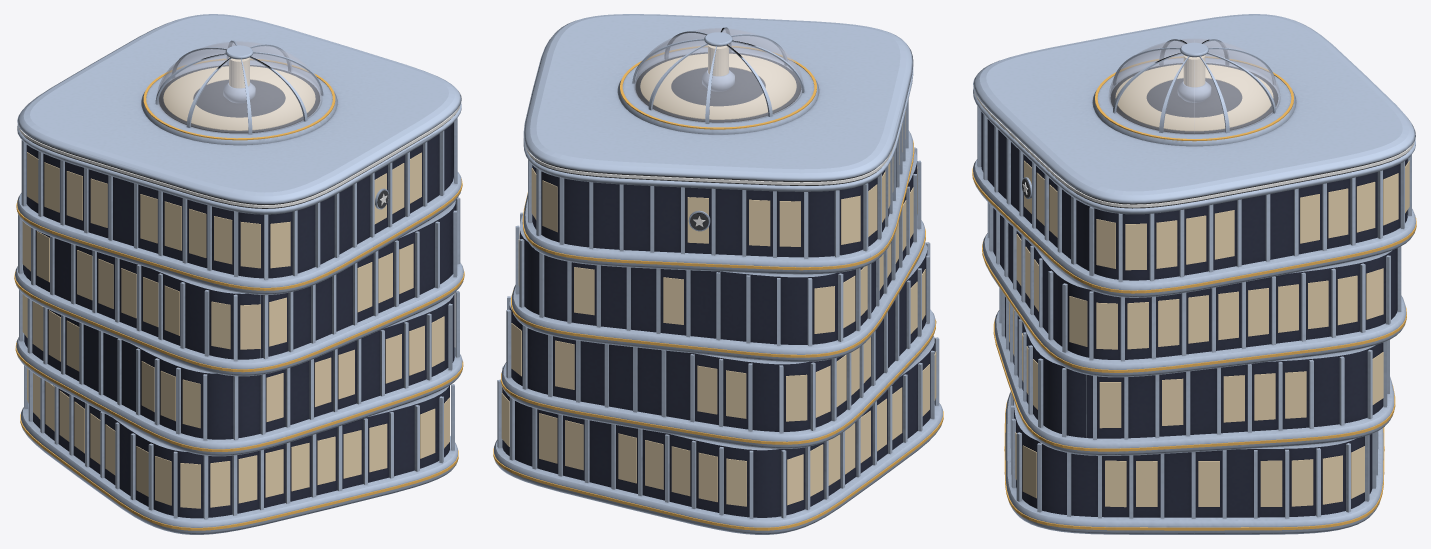
The model's file is SM_Evo_HabitatTower.fbx.
3 renders of one model, left to right at view 1: azimuth 30°, elevation 25°; view 2: azimuth 150°, elevation 25°; view 3: azimuth 270°, elevation 25°, orthographic. The views are drawn at different scales.
Parts seen in each view (by area): view 1: SMN_Evo_HabitatTower, Emblem_Fx_HabitatTower; view 2: SMN_Evo_HabitatTower, Emblem_Fx_HabitatTower; view 3: SMN_Evo_HabitatTower, Emblem_Fx_HabitatTower.
Boxes of the visible parts, <box> form: SMN_Evo_HabitatTower: <box>15,14,463,534</box>; Emblem_Fx_HabitatTower: <box>14,41,464,530</box>; SMN_Evo_HabitatTower: <box>494,14,942,534</box>; Emblem_Fx_HabitatTower: <box>493,28,943,530</box>; SMN_Evo_HabitatTower: <box>973,14,1415,534</box>; Emblem_Fx_HabitatTower: <box>972,38,1416,530</box>.
Size of the model in its own units: 1.86 by 1.89 by 1.86.
